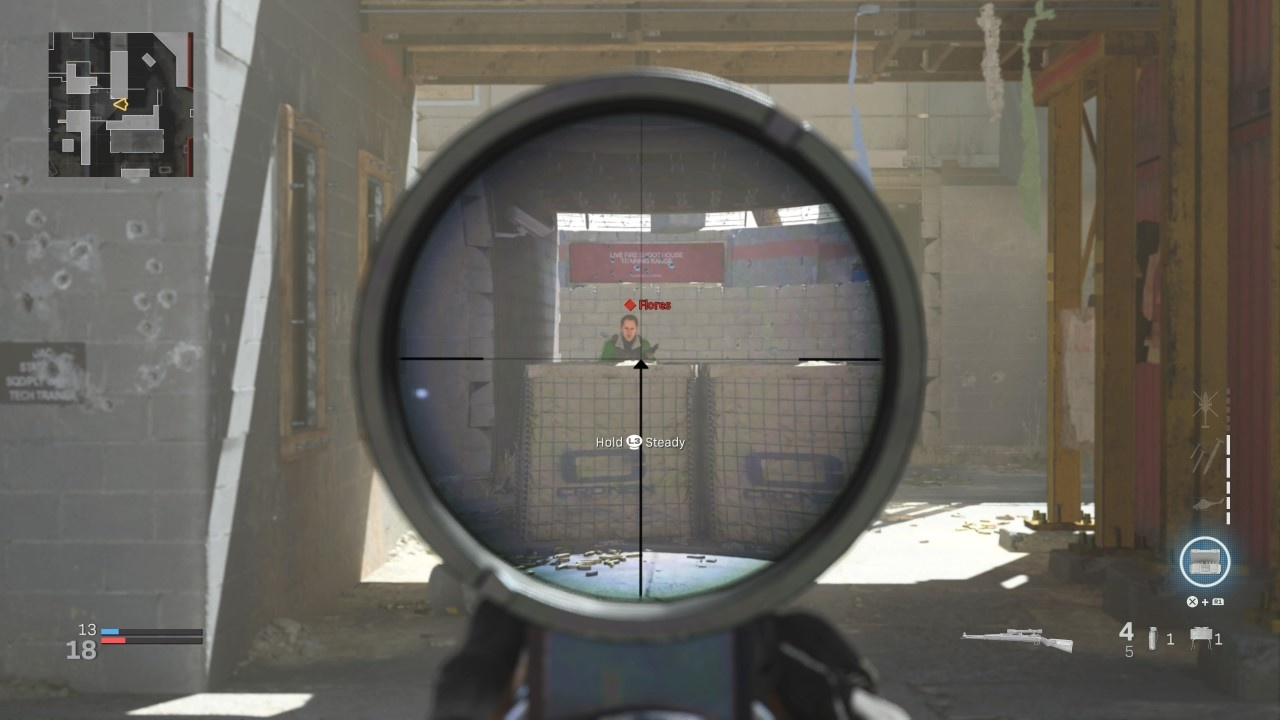head: (619, 314, 639, 342)
person: (597, 312, 655, 361)
